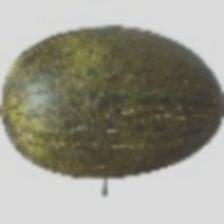honeydew: (16, 10, 180, 200)
